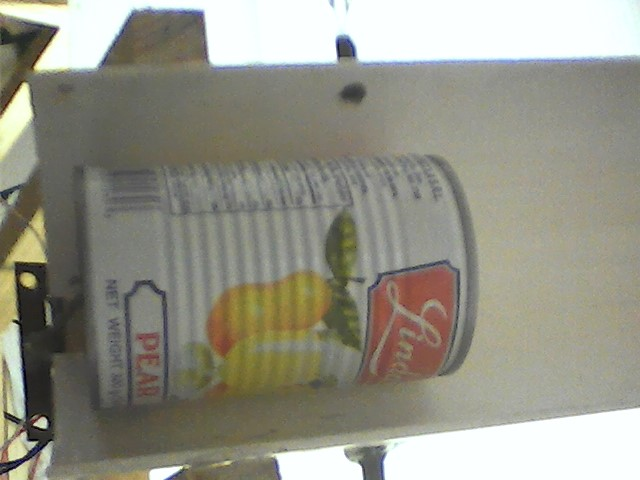lata: (65, 145, 486, 421)
